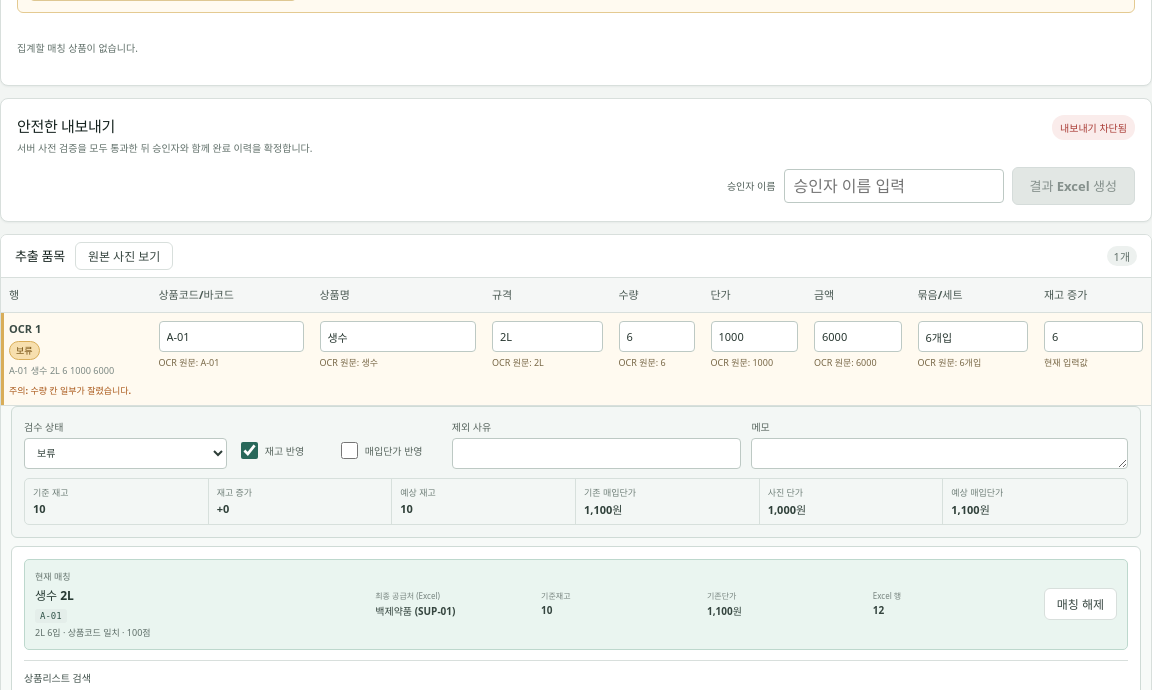
Test case: 사진과 품목 검수 › 자동 저장 오류를 표시하고 서버 최신값으로 복구한다
(page scrolled)
Replace the text in the field named "1번 행 상품명" with "잘못된 값" at (398, 337), box [320,321,476,352]
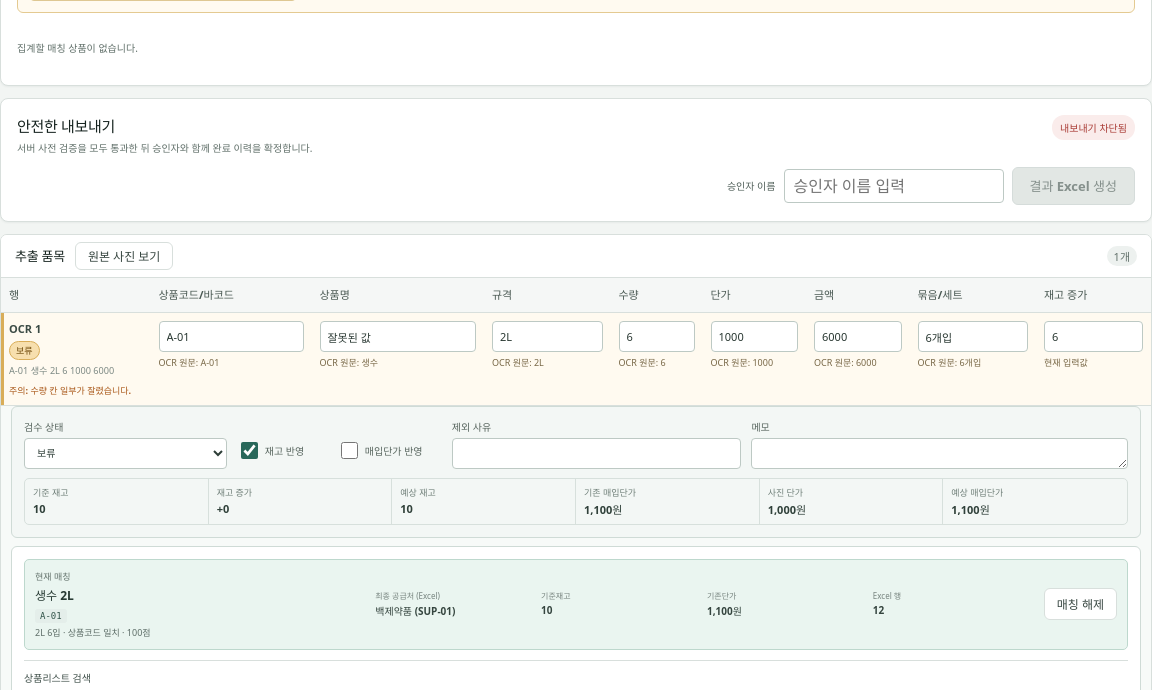
Leave the field named "1번 행 상품명", box [320,321,476,352]
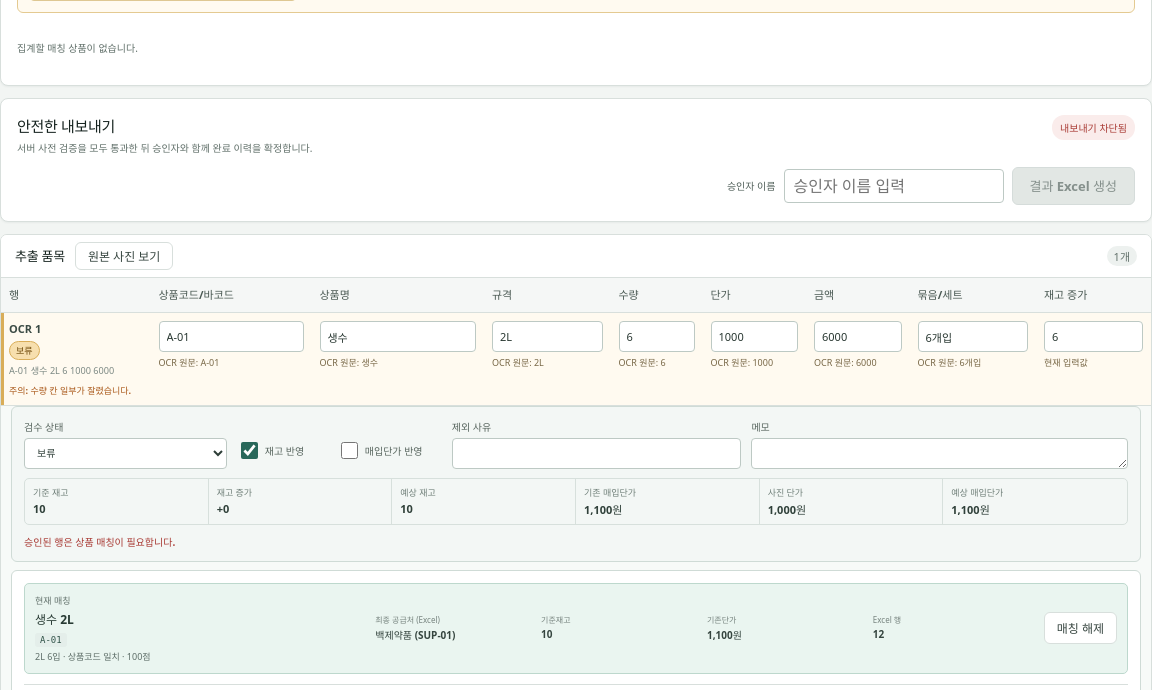
Result: the message named "1번 행 저장 오류" reads "승인된 행은 상품 매칭이 필요합니다." at [24,535,175,549]
Result: the field named "1번 행 상품명" holds "생수" at [320,321,476,352]
